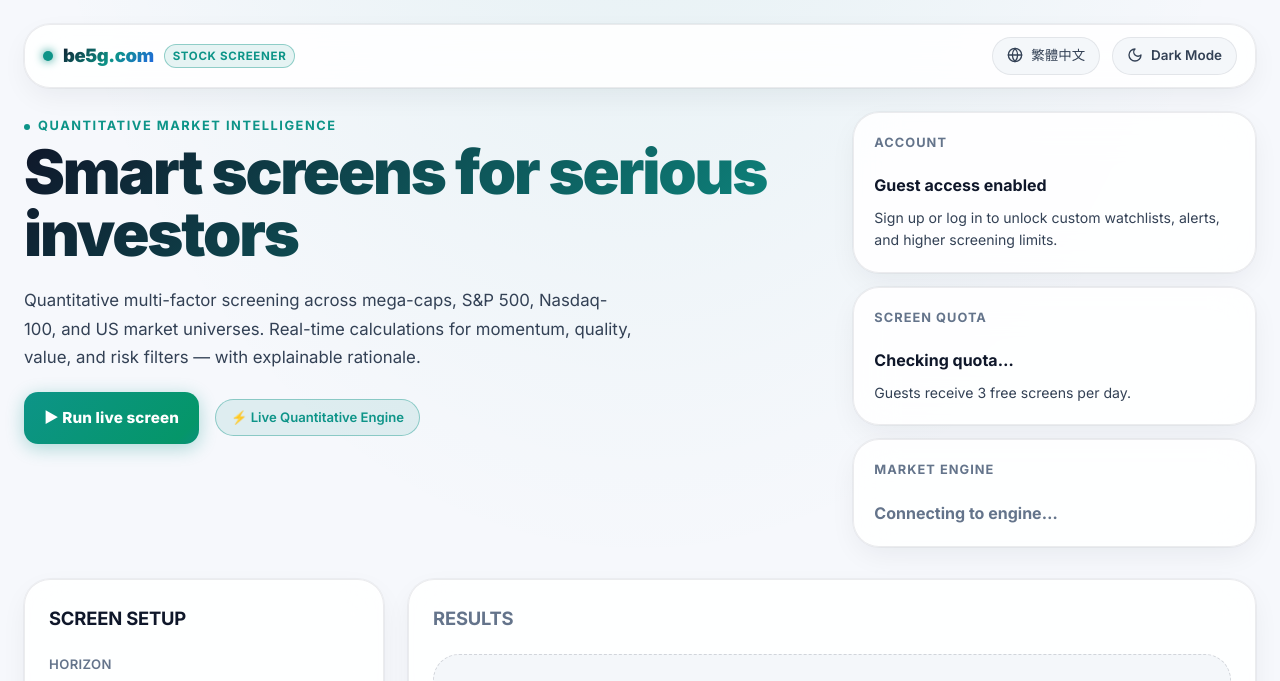
Test: switches between English and Traditional Chinese (Taiwan)
# Switch to Traditional Chinese
Click the button with aria-label "Toggle Language" at (1046, 56), box [992, 37, 1100, 74]
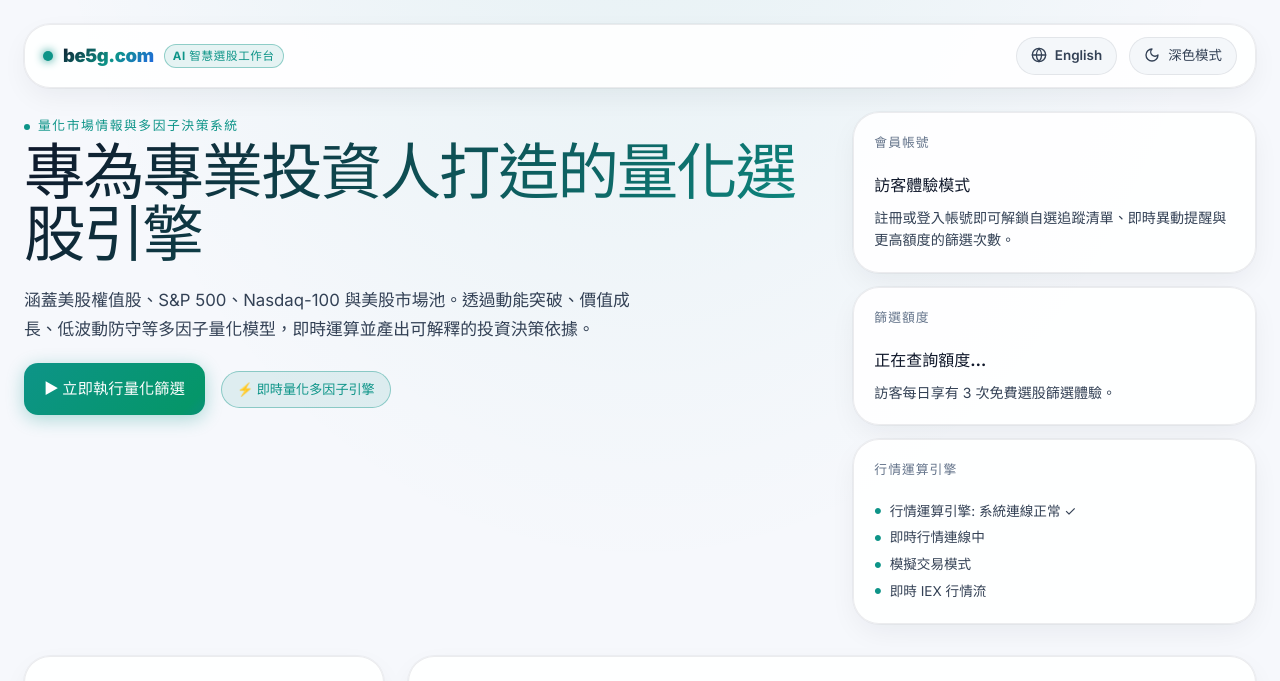
Expected: the heading "專為專業投資人打造的量化選股引擎" is shown, [24, 141, 829, 266]
Expected: the button with aria-label "Toggle Language" reads "English"
# Switch back to English
Click the button with aria-label "Toggle Language" at (1066, 56), box [1016, 37, 1117, 74]
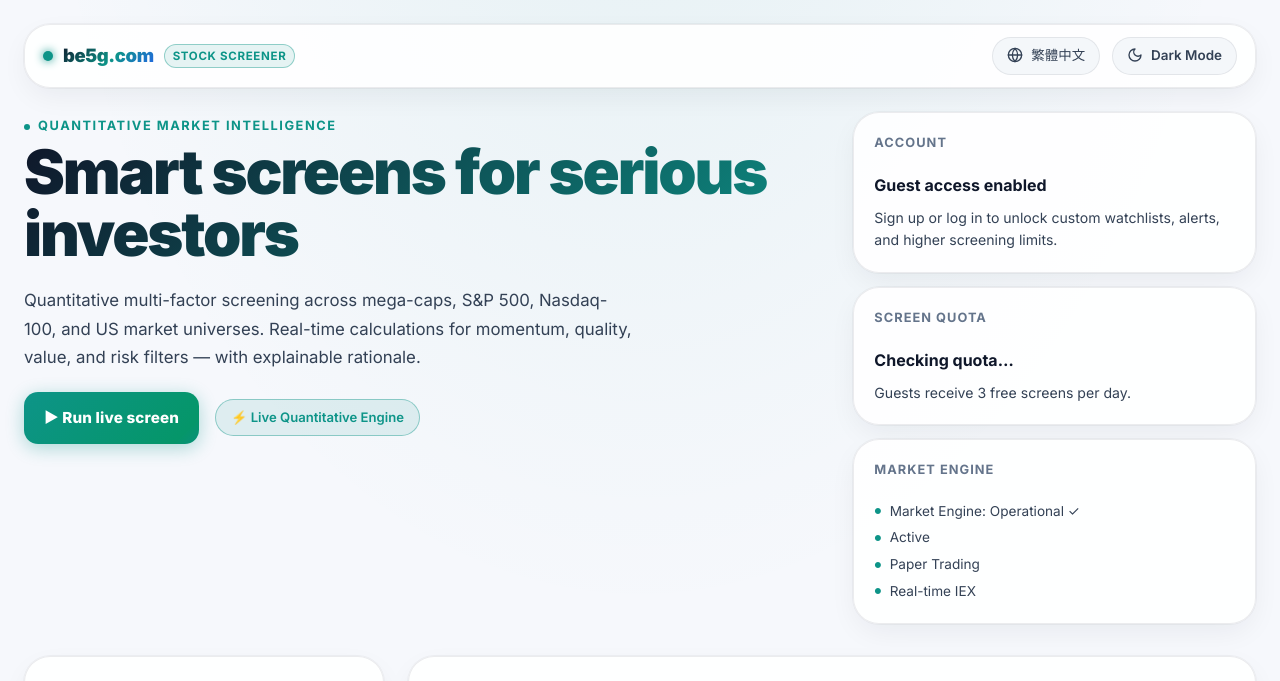
Expected: the heading "Smart screens for serious investors" is shown, [24, 141, 829, 266]
